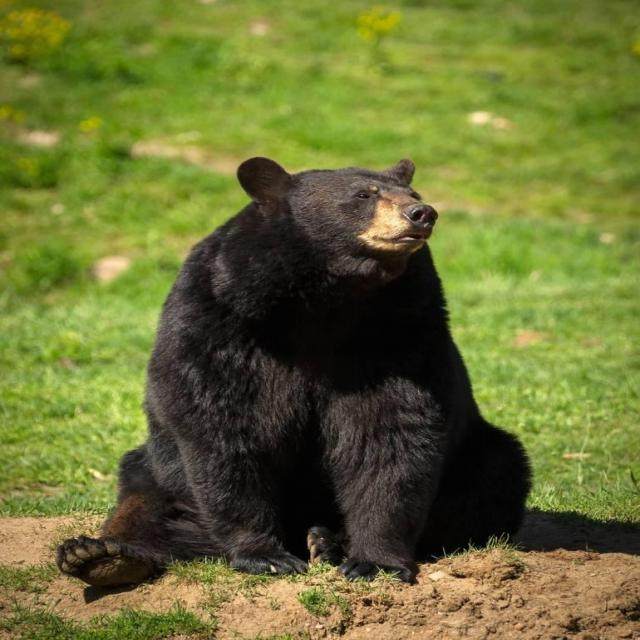Bear: (57, 157, 534, 593)
